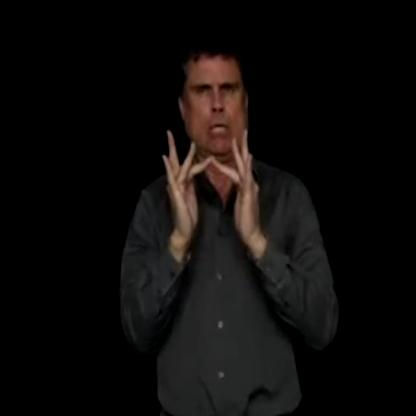Internet: (151, 122, 266, 238)
